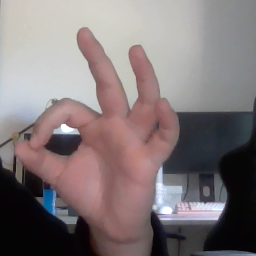O: (12, 26, 179, 227)
